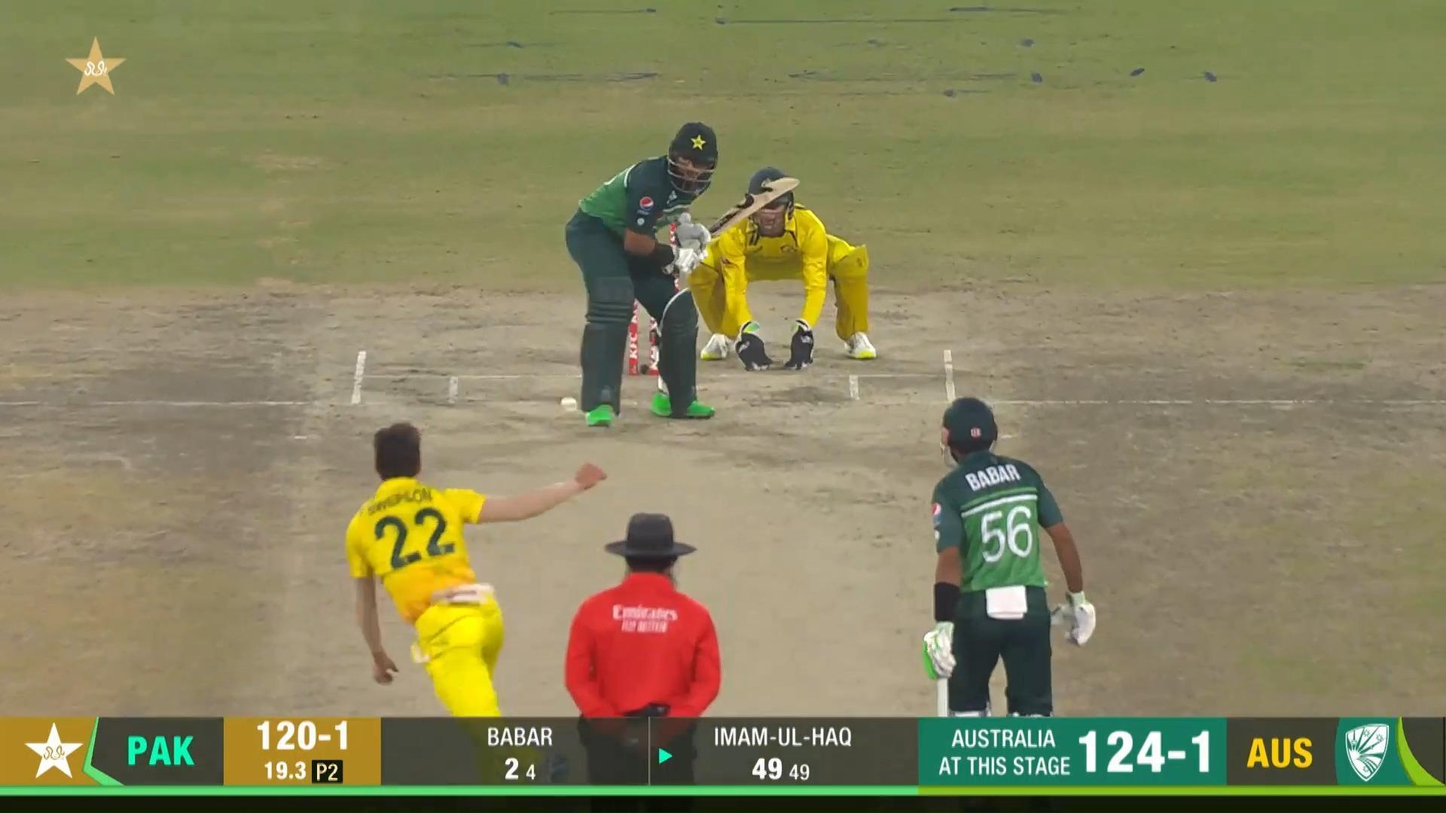BM 1: (565, 119, 801, 429)
BO: (344, 421, 608, 715)
